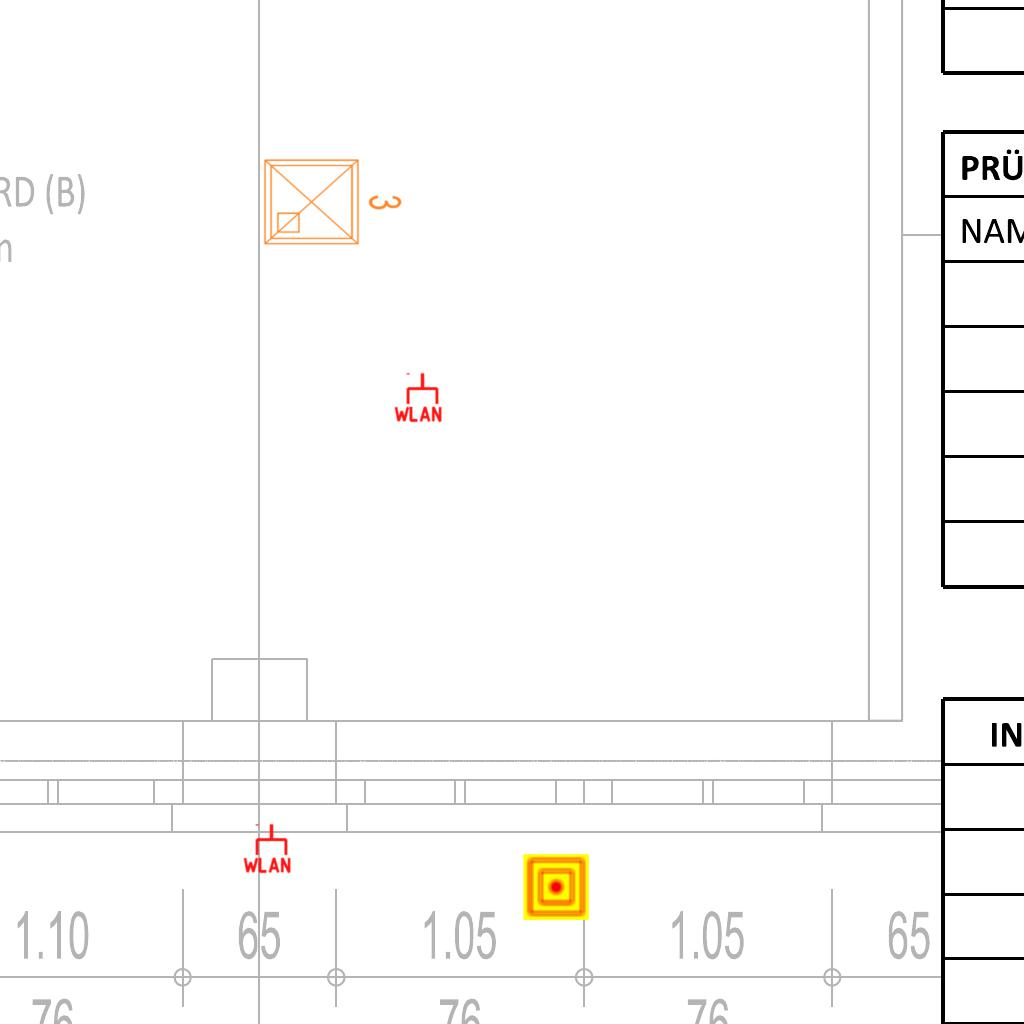Einbaudownlights_LED_Konferenzraeume: (257, 148, 407, 252)
NAM-Nichtautomatischer_Melder: (523, 854, 589, 920)
WLAN: (392, 371, 444, 423), (241, 822, 293, 874)
